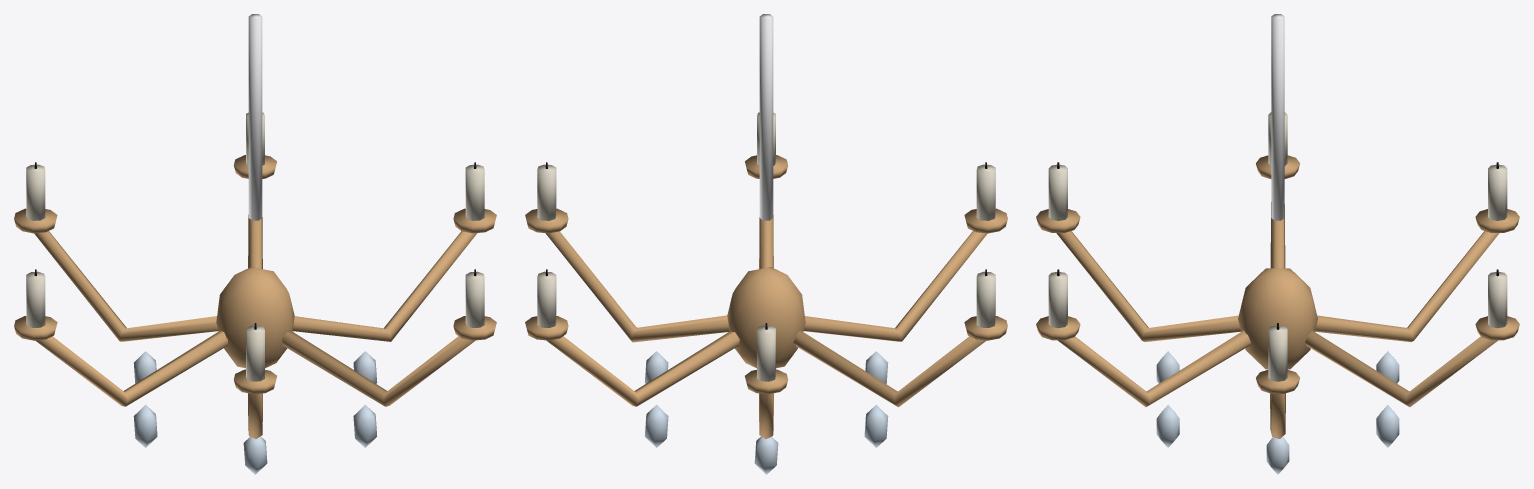
Rendered from palm_chandelier_v0.glb.
3 views of the same model, side by side, from view 1: azimuth 30°, elevation 25°; view 2: azimuth 150°, elevation 25°; view 3: azimuth 270°, elevation 25° (orthographic).
Parts seen in each view (by area): view 1: palm_chandelier_v0; view 2: palm_chandelier_v0; view 3: palm_chandelier_v0.
Boxes of the visible parts, box(x1,y1,x2,y2) form: palm_chandelier_v0: box(14, 14, 496, 474); palm_chandelier_v0: box(525, 14, 1007, 474); palm_chandelier_v0: box(1036, 14, 1519, 474).
Size of the model in its own units: 1.24 by 1 by 1.09.
